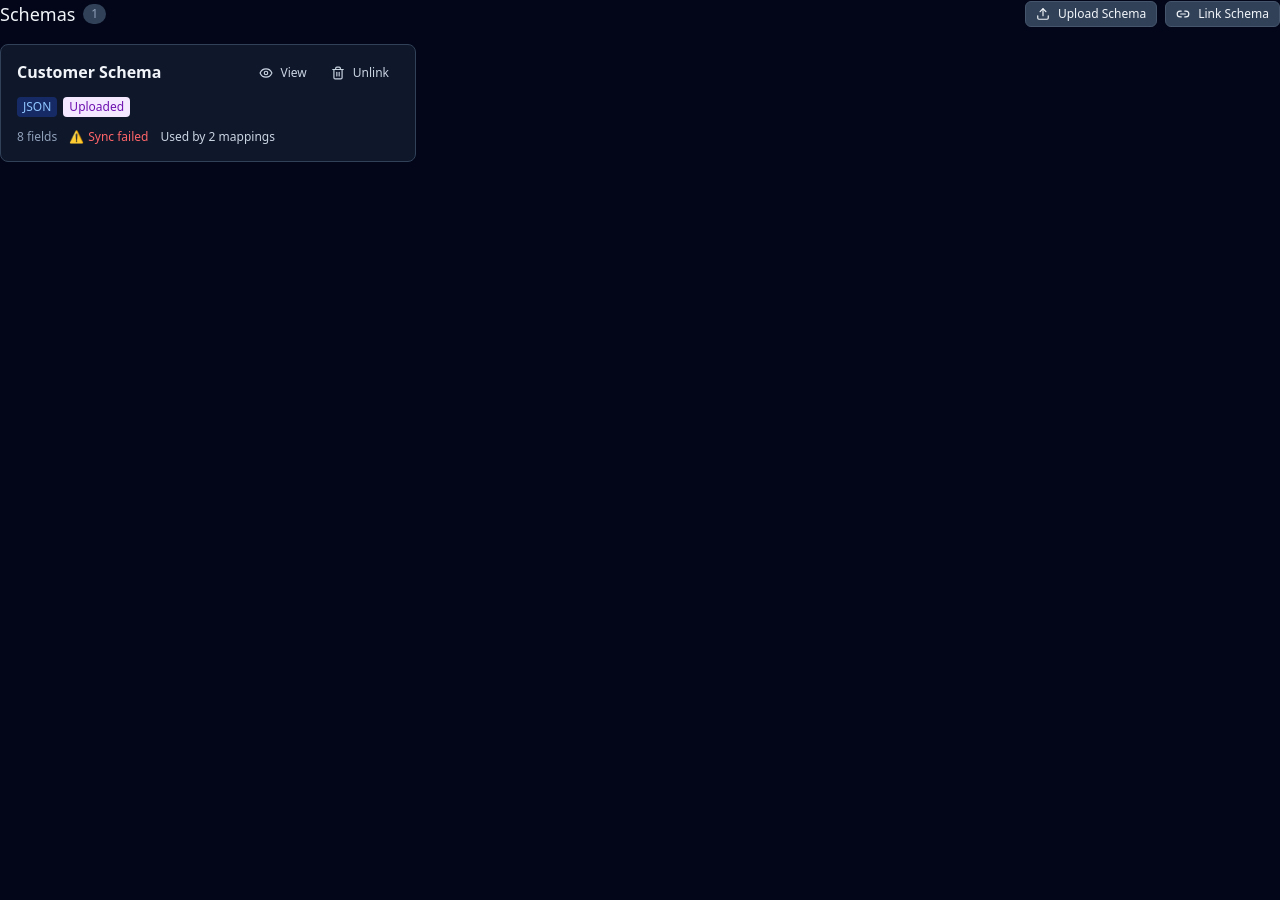
Scenario: SchemaManagementSection › remove confirmation shows mapping warning when schema is referenced
Click the button with aria-label "unlink schema".
click(360, 73)  # box top-left (321, 61), bottom-right (399, 85)
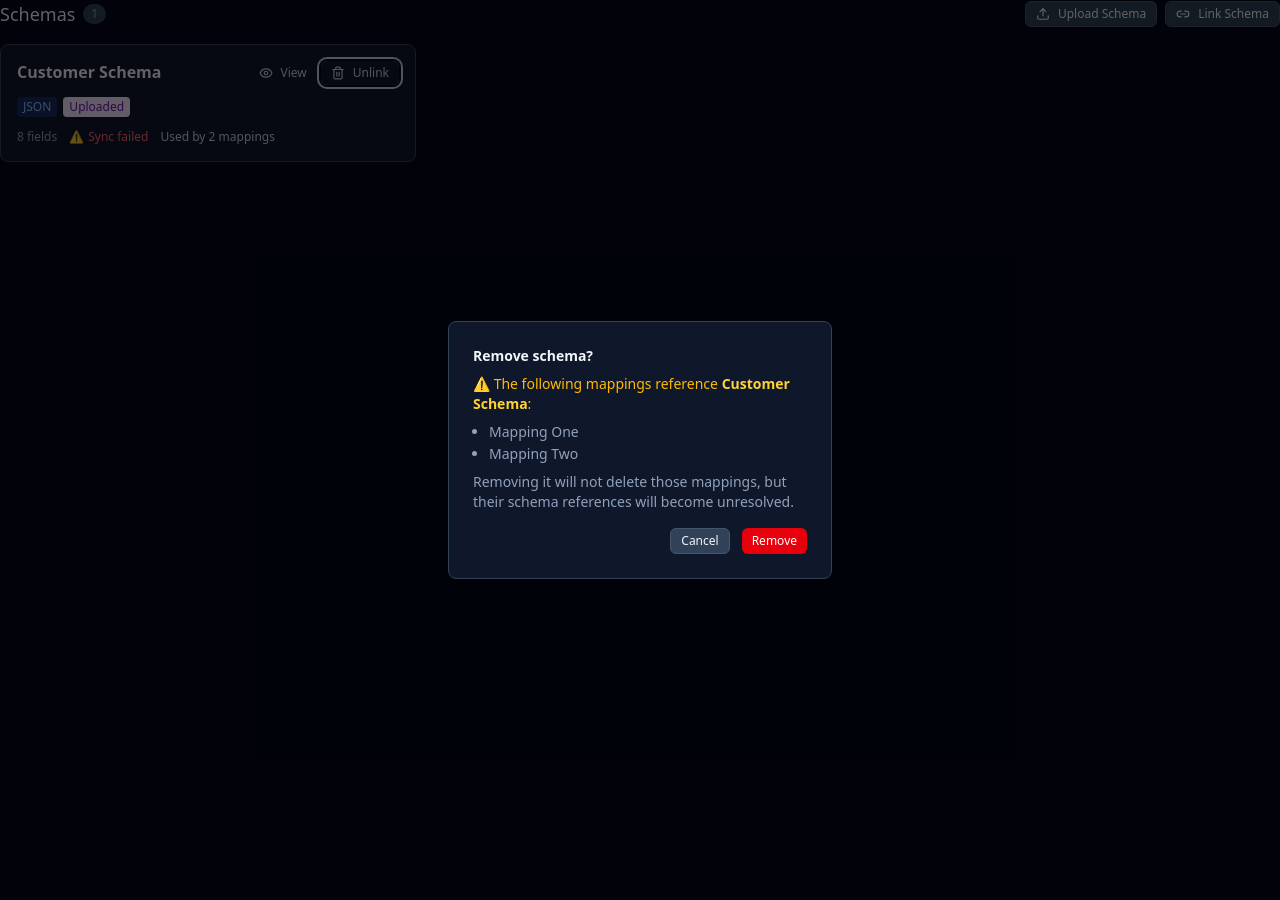
Expected: the list item "Mapping One" is shown, top-left (489, 422), bottom-right (579, 441)
Expected: the list item "Mapping Two" is shown, top-left (489, 444), bottom-right (578, 463)
